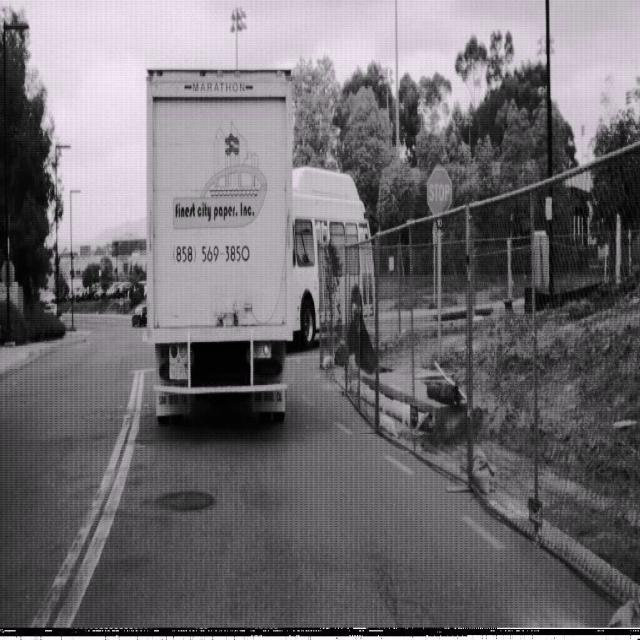stop_sign: (427, 166, 452, 217)
